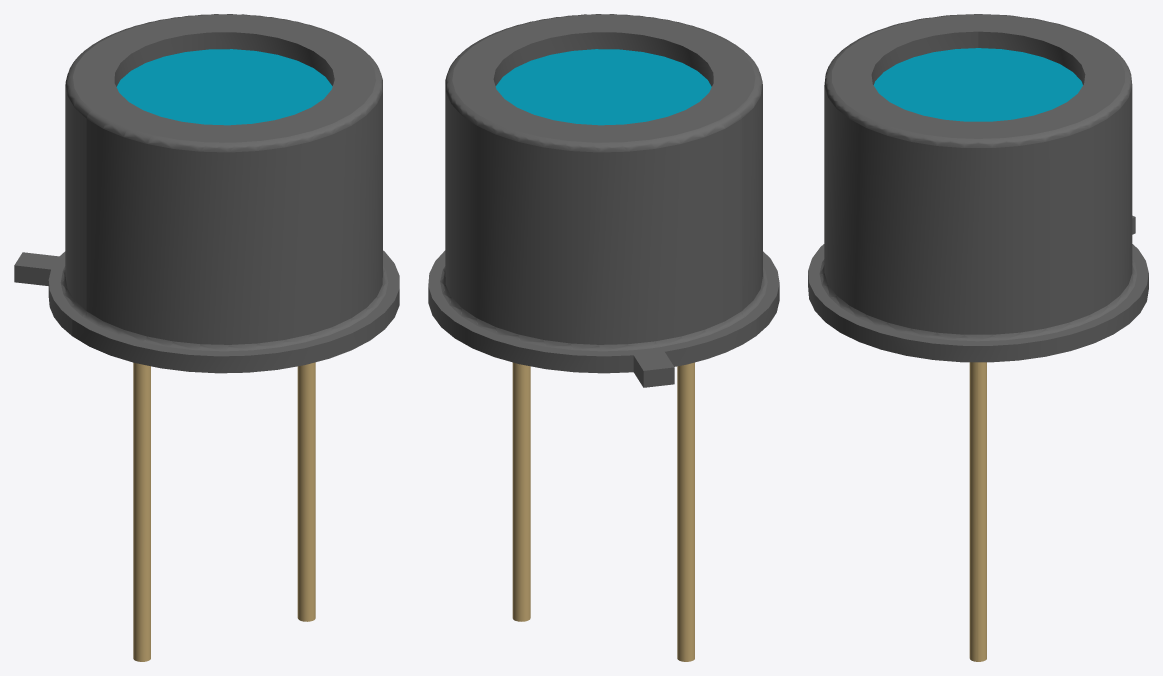
Rendered from kc-to-39-2_window.glb.
The picture shows the model from 3 angles, left to right: view 1: azimuth 30°, elevation 25°; view 2: azimuth 150°, elevation 25°; view 3: azimuth 270°, elevation 25°; orthographic projection. The views are drawn at different scales.
Visible parts, largest first — view 1: 0.16666666666666666_0.16666666666666666_0.16666666666666666_, 0_0.3333333333333333_0.5_0, 0.75_0.5_0.25_0.9; view 2: 0.16666666666666666_0.16666666666666666_0.16666666666666666_, 0_0.3333333333333333_0.5_0, 0.75_0.5_0.25_0.9; view 3: 0.16666666666666666_0.16666666666666666_0.16666666666666666_, 0_0.3333333333333333_0.5_0, 0.75_0.5_0.25_0.9.
Part boxes in pixels (x1,y1,x2,y2): 0.16666666666666666_0.16666666666666666_0.16666666666666666_: [14, 14, 399, 373]; 0_0.3333333333333333_0.5_0: [116, 49, 332, 125]; 0.75_0.5_0.25_0.9: [133, 362, 315, 661]; 0.16666666666666666_0.16666666666666666_0.16666666666666666_: [428, 14, 779, 387]; 0_0.3333333333333333_0.5_0: [495, 49, 711, 125]; 0.75_0.5_0.25_0.9: [512, 362, 694, 661]; 0.16666666666666666_0.16666666666666666_0.16666666666666666_: [808, 14, 1148, 362]; 0_0.3333333333333333_0.5_0: [873, 48, 1082, 121]; 0.75_0.5_0.25_0.9: [969, 362, 986, 661].
Size of the model in its own units: 0.9389 by 1.65 by 0.9393.
